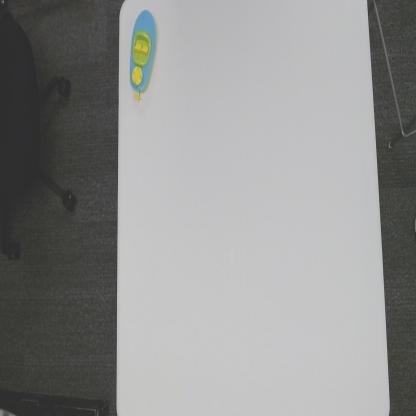Boat: (127, 7, 160, 106)
